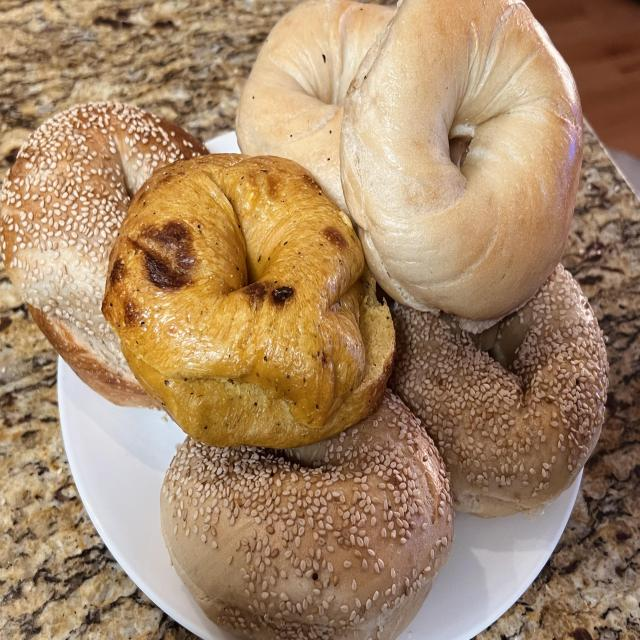Bagel: (102, 153, 395, 448), (341, 2, 581, 320), (160, 392, 454, 638), (0, 102, 208, 407), (390, 265, 609, 517), (235, 0, 395, 213)
